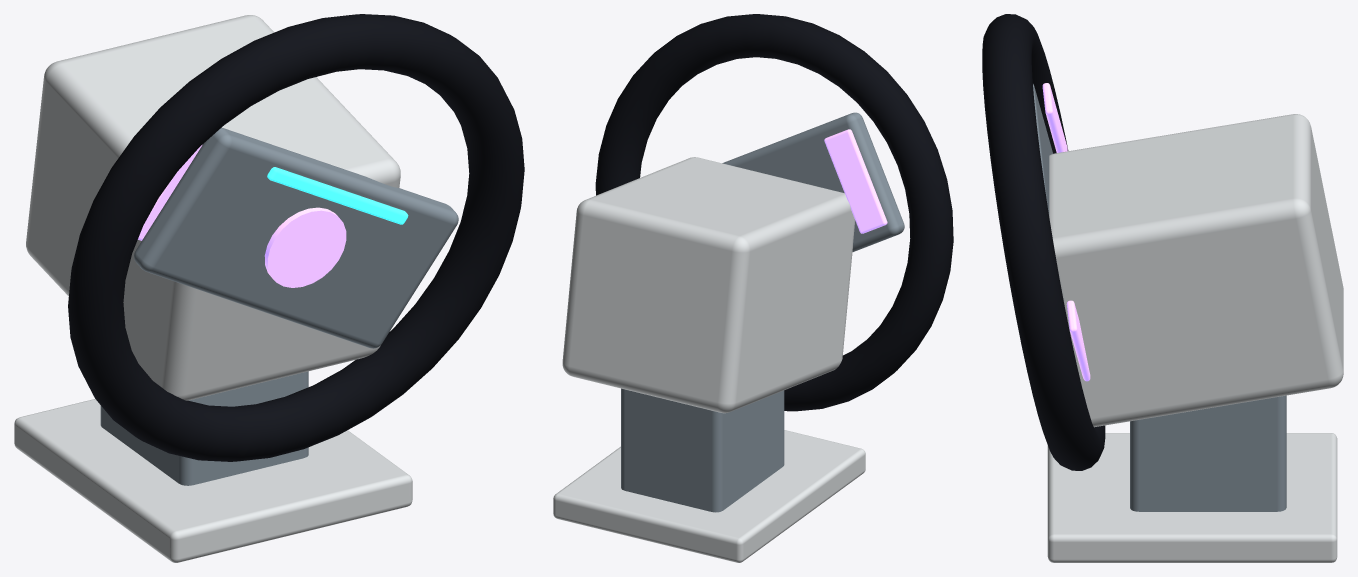
Rendered from atelier-gaming-wheel-arctic.glb.
3 views of the same model, side by side, from view 1: azimuth 30°, elevation 25°; view 2: azimuth 150°, elevation 25°; view 3: azimuth 270°, elevation 25° (orthographic). The views are drawn at different scales.
Size of the model in its own units: 0.2954 by 0.3353 by 0.2309.
